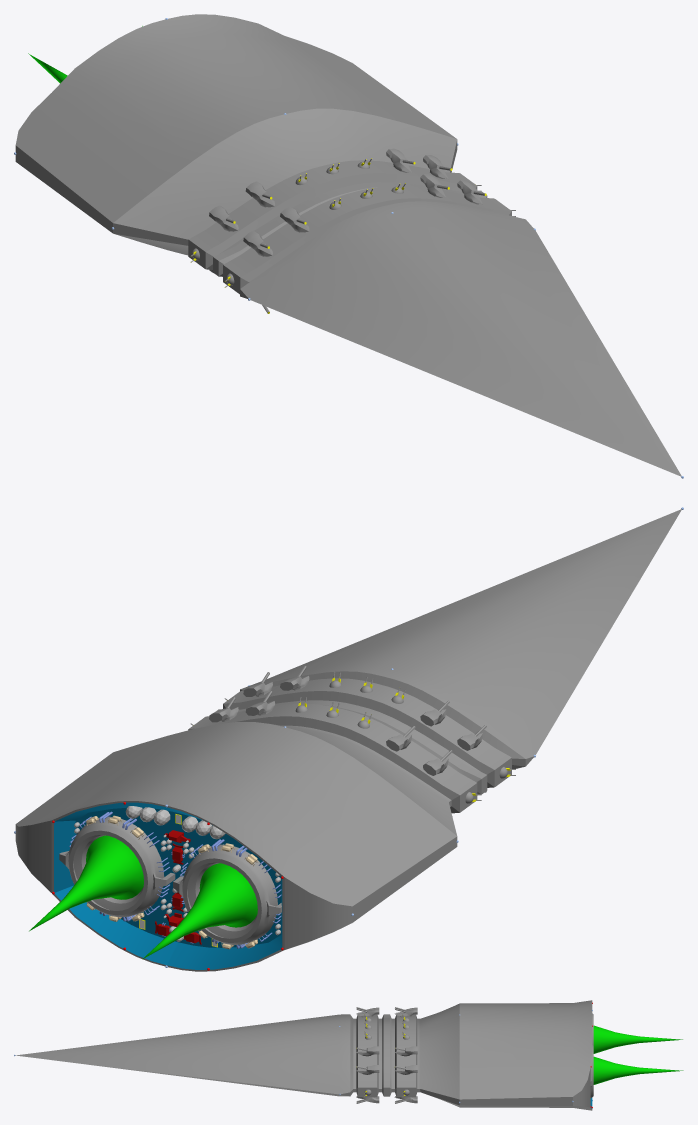
Rendered from Destroyer.fbx.
3 views of the same model, one above another, from view 1: azimuth 30°, elevation 25°; view 2: azimuth 150°, elevation 25°; view 3: azimuth 270°, elevation 25° (orthographic). The views are drawn at different scales.
Visible parts, largest first — view 1: Destroyer; view 2: Destroyer; view 3: Destroyer.
Boxes of the visible parts, left/top/right/bottom form: Destroyer: left=14, top=14, right=683, bottom=478; Destroyer: left=14, top=507, right=683, bottom=971; Destroyer: left=14, top=1000, right=683, bottom=1110.
Bounding box in the file's own units: 7126 × 3216 × 21315.
